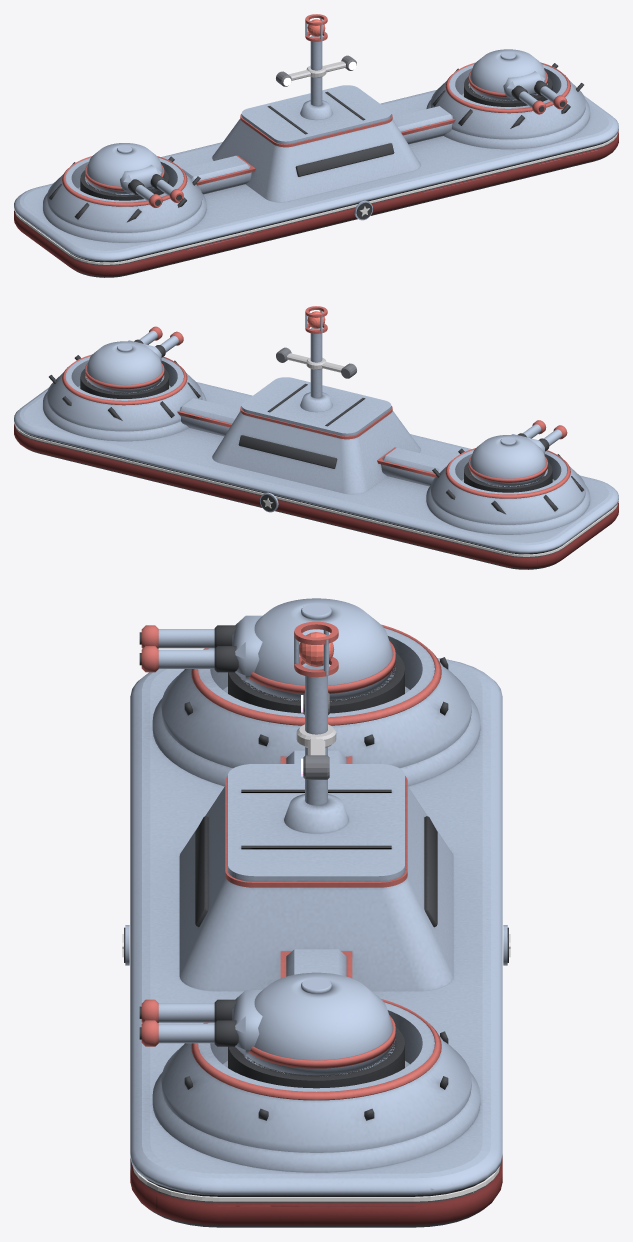
File: SM_Evo_DefenseBattery.fbx
3 renders of one model, top to bottom at view 1: azimuth 30°, elevation 25°; view 2: azimuth 150°, elevation 25°; view 3: azimuth 270°, elevation 25°, orthographic. The views are drawn at different scales.
Visible parts, largest first — view 1: SMN_Evo_DefenseBattery, Head_DefenseBatteryA, Head_DefenseBatteryB, Emblem_Fx_DefenseBattery, SpinRadar_DefenseBattery; view 2: SMN_Evo_DefenseBattery, Head_DefenseBatteryA, Head_DefenseBatteryB, Emblem_Fx_DefenseBattery, SpinRadar_DefenseBattery; view 3: SMN_Evo_DefenseBattery, Head_DefenseBatteryA, Head_DefenseBatteryB, Emblem_Fx_DefenseBattery, SpinRadar_DefenseBattery.
Boxes of the visible parts, x1,y1,x2,y2 form: SMN_Evo_DefenseBattery: (14,14,618,277); Head_DefenseBatteryA: (468,49,567,114); Head_DefenseBatteryB: (85,143,183,207); Emblem_Fx_DefenseBattery: (15,19,617,264); SpinRadar_DefenseBattery: (276,55,356,86); SMN_Evo_DefenseBattery: (14,306,618,569); Head_DefenseBatteryA: (85,326,183,392); Head_DefenseBatteryB: (468,420,567,486); Emblem_Fx_DefenseBattery: (15,311,617,556); SpinRadar_DefenseBattery: (276,347,356,378); SMN_Evo_DefenseBattery: (124,621,508,1227); Head_DefenseBatteryA: (139,972,395,1075); Head_DefenseBatteryB: (139,598,395,700); Emblem_Fx_DefenseBattery: (122,632,510,1201); SpinRadar_DefenseBattery: (296,692,336,779).
Bounding box in the file's own units: 2.84 × 0.851 × 0.877.
